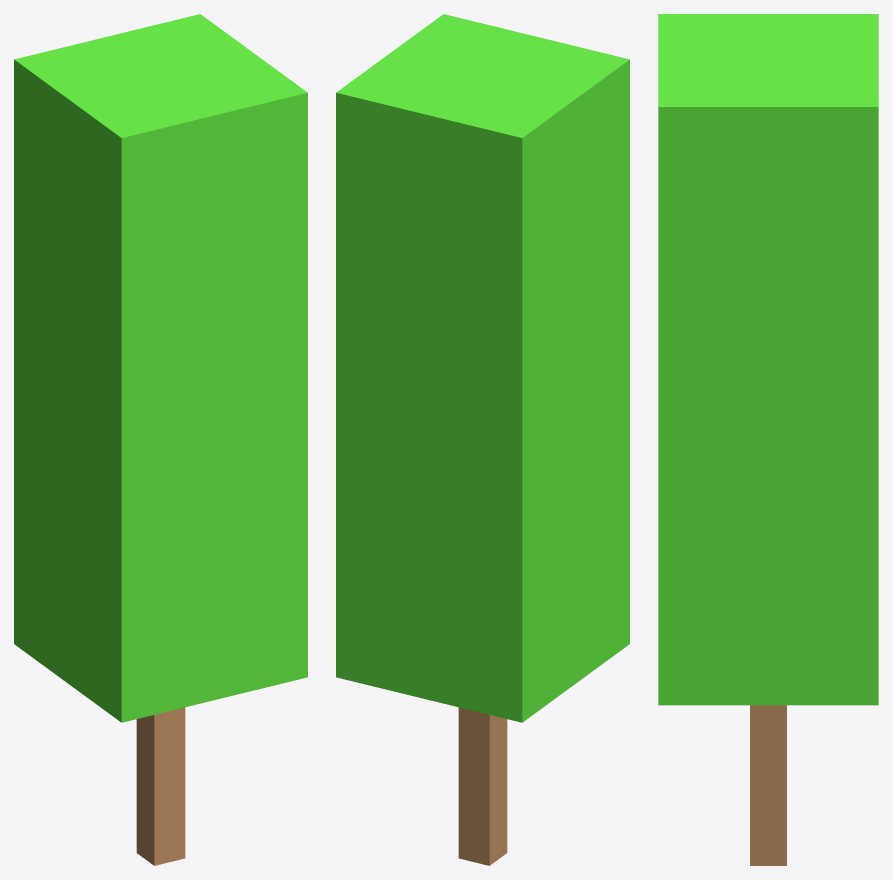
File: trees_4_dark.fbx
The picture shows the model from 3 angles, left to right: view 1: azimuth 30°, elevation 25°; view 2: azimuth 150°, elevation 25°; view 3: azimuth 270°, elevation 25°; orthographic projection. The views are drawn at different scales.
Visible parts, largest first — view 1: Cube.056; view 2: Cube.056; view 3: Cube.056.
Boxes of the visible parts, x1=… form: Cube.056: x1=14, y1=14, x2=307, y2=865; Cube.056: x1=336, y1=14, x2=629, y2=865; Cube.056: x1=658, y1=14, x2=878, y2=865.
Size of the model in its own units: 300 by 1200 by 300.
Materials: 1 (1 with a texture image).
